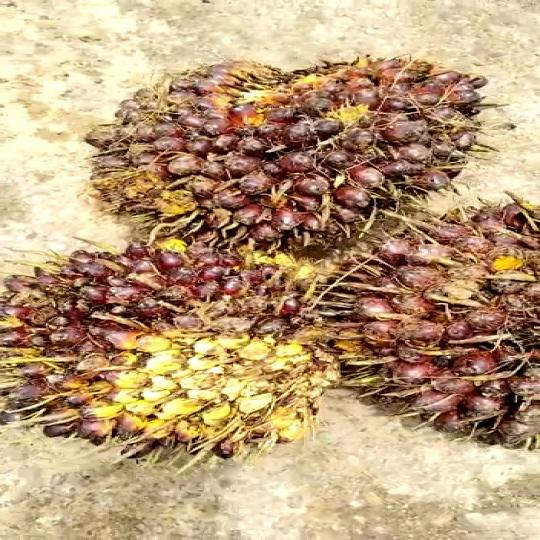kurang masak: (75, 49, 483, 244), (0, 243, 322, 458), (291, 199, 540, 451)
